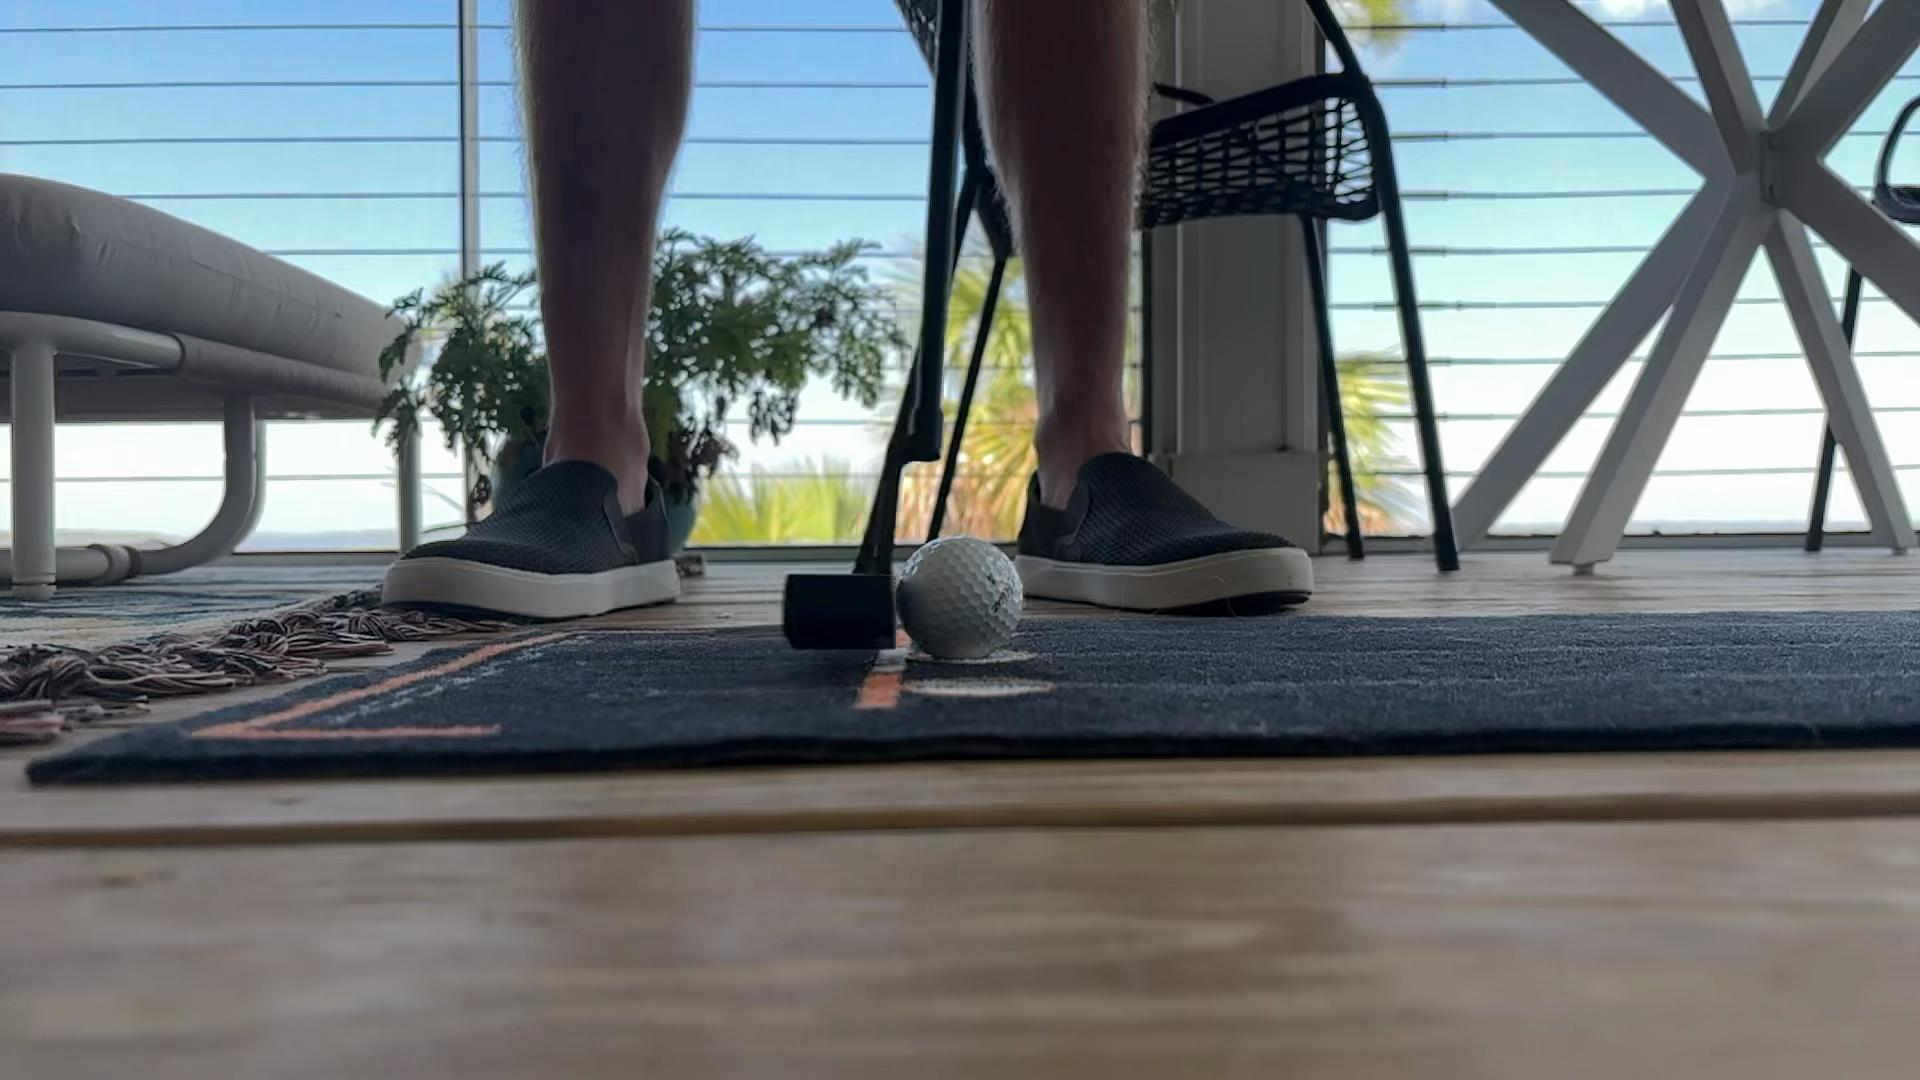golfball: (895, 536, 1025, 660)
